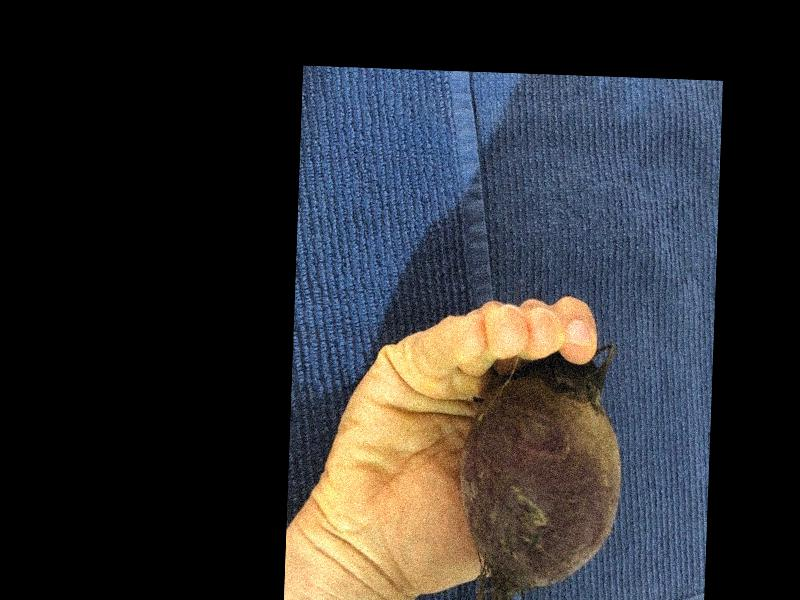Beet: (453, 335, 624, 600)
